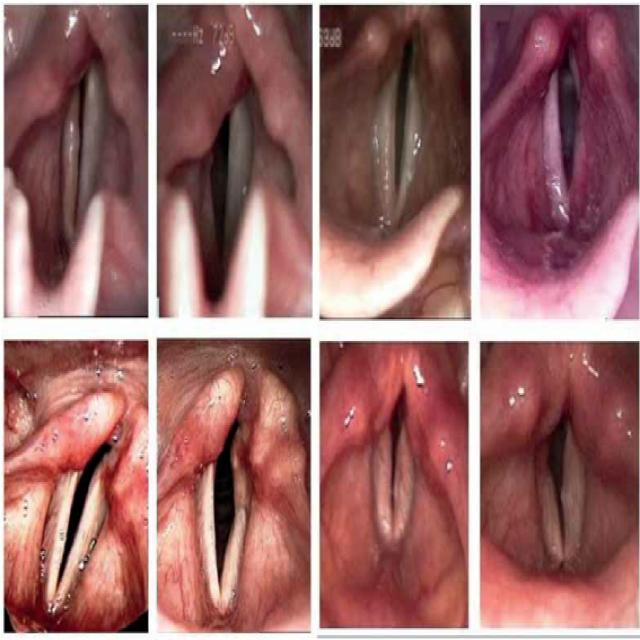arytenoid cartilagerotation: (157, 7, 310, 170), (480, 341, 638, 494), (320, 342, 466, 498), (161, 359, 308, 510), (4, 385, 146, 532), (6, 5, 145, 150), (483, 8, 638, 133), (326, 8, 469, 126)
epiglottisrotation: (479, 187, 638, 319), (319, 180, 469, 316), (480, 524, 638, 628), (4, 163, 110, 316), (157, 182, 277, 315)
larynxrotation: (35, 433, 119, 611), (366, 30, 429, 224), (195, 414, 254, 616), (530, 404, 590, 567), (55, 61, 104, 252), (200, 98, 256, 260), (369, 379, 417, 552), (543, 46, 588, 208)
